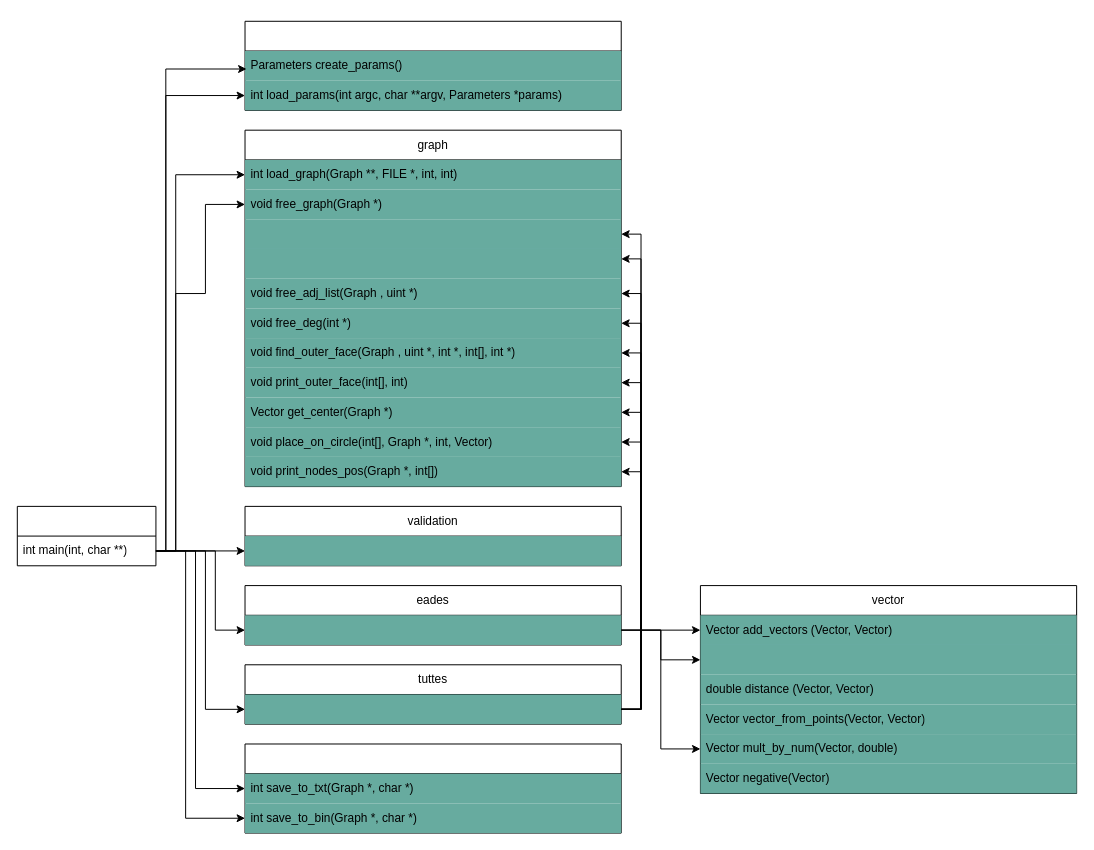
The diagram is 1094 pixels wide and 850 high, and some of its shapes have lost their labels. Here are the shapes that lost their labels. From the top down, the box of each, then its label:
(244, 20, 621, 110): input
(245, 219, 621, 248): int build_adj_list(Graph , uint *, int *)
(245, 248, 621, 278): void print_adj_list(Graph , uint *, int *)
(16, 505, 156, 566): main.c
(245, 536, 621, 565): int is_graph_valid(Graph *)
(245, 615, 621, 644): void eades_algorithm(Graph *, double, int, double, double, int, double)
(700, 644, 1076, 674): double count_vector_length(Vector)
(245, 694, 621, 724): void tuttes_algorithm(Graph *graph)
(244, 743, 621, 833): output
